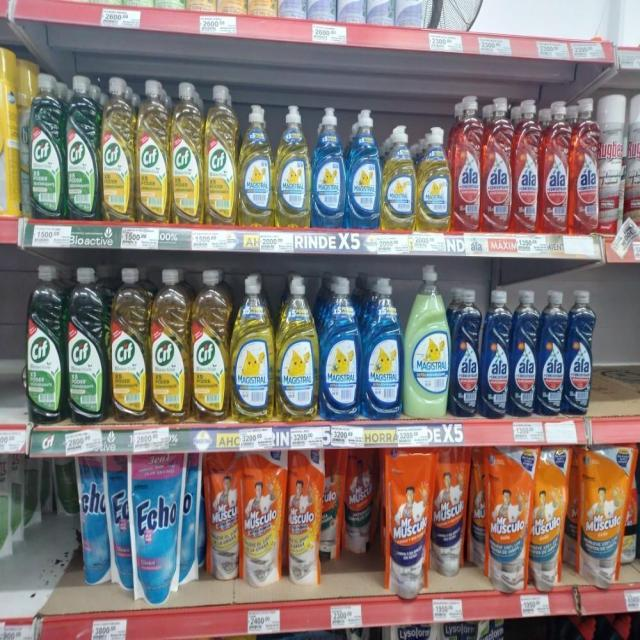ala_conc_azul: (452, 287, 481, 420), (481, 288, 510, 420), (510, 289, 538, 418), (566, 289, 594, 416), (539, 290, 565, 418)
ala_conc_rojo: (452, 94, 482, 234), (482, 95, 512, 234), (571, 97, 599, 238), (542, 99, 570, 236), (513, 98, 540, 234)
ala_crem_blanco: (611, 0, 640, 47)
ala_sachet_amarillo: (248, 0, 278, 15), (218, 0, 247, 14), (186, 0, 216, 12)
cif_conc_bot_amarilla: (110, 266, 149, 422), (151, 267, 189, 422), (191, 269, 229, 422), (101, 77, 135, 222), (136, 78, 169, 224), (204, 82, 237, 226), (171, 80, 203, 224)
cif_conc_botella_verde: (66, 265, 108, 425), (26, 263, 64, 426), (28, 72, 64, 220), (65, 74, 99, 220)
heroe: (0, 450, 13, 554)
magistral_con_amarillo: (232, 272, 274, 422), (276, 274, 318, 422), (275, 103, 310, 229), (238, 103, 273, 226), (416, 124, 451, 233), (382, 124, 415, 232)
magistral_con_azul: (362, 276, 403, 420), (320, 274, 360, 421), (312, 105, 346, 228), (347, 108, 380, 230)
magistral_con_crema: (405, 264, 449, 419)
